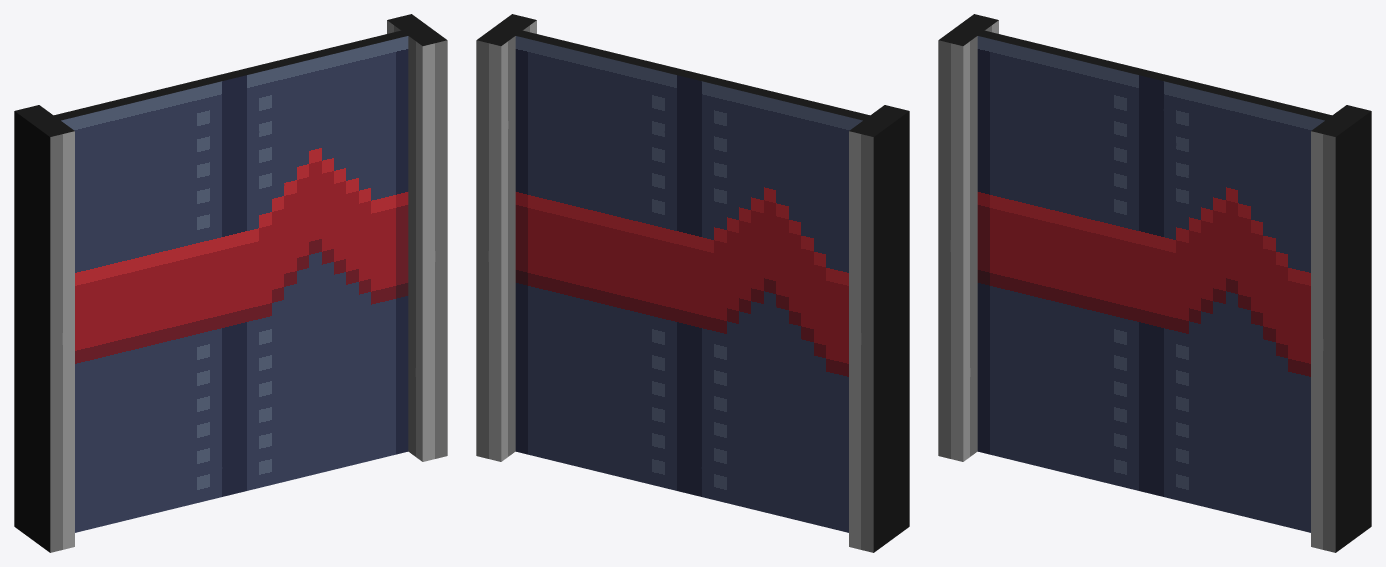
Rendered from Door.gltf.
3 views of the same model, side by side, from view 1: azimuth 30°, elevation 25°; view 2: azimuth 150°, elevation 25°; view 3: azimuth 330°, elevation 25° (orthographic).
Parts seen in each view (by area): view 1: RightDoor, LeftDoor, LeftPost, RightPost; view 2: RightDoor, LeftDoor, LeftPost, RightPost; view 3: LeftDoor, RightDoor, RightPost, LeftPost.
Part boxes in pixels (x1=…): RightDoor: x1=228, y1=30, x2=408, y2=493; LeftDoor: x1=54, y1=73, x2=234, y2=532; LeftPost: x1=14, y1=105, x2=74, y2=552; RightPost: x1=387, y1=14, x2=447, y2=461; RightDoor: x1=515, y1=30, x2=695, y2=493; LeftDoor: x1=689, y1=73, x2=869, y2=532; LeftPost: x1=849, y1=105, x2=909, y2=552; RightPost: x1=476, y1=14, x2=536, y2=461; LeftDoor: x1=977, y1=30, x2=1157, y2=493; RightDoor: x1=1151, y1=73, x2=1331, y2=532; RightPost: x1=1311, y1=105, x2=1371, y2=552; LeftPost: x1=938, y1=14, x2=998, y2=461.
Size of the model in its own units: 2 by 2 by 0.3125.
1 material, 1 textured.
